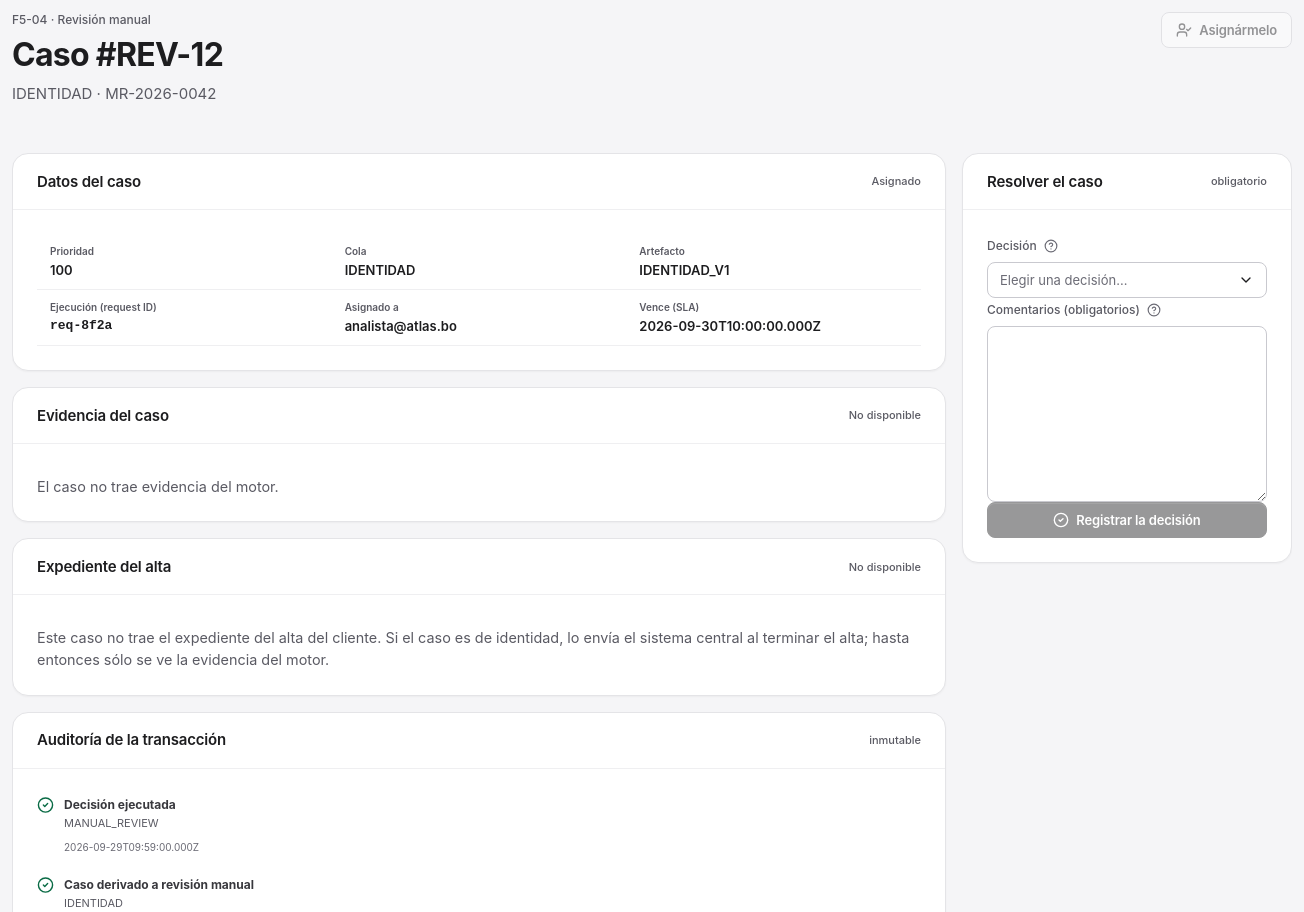
Test: ManualReviewDetailPage › ofrece Aprobar, Rechazar y Cancelar caso, y nada que el motor no acepte
Click the dropdown with test id "select-resolucion". click: (1127, 280)
box: [987,262,1267,298]
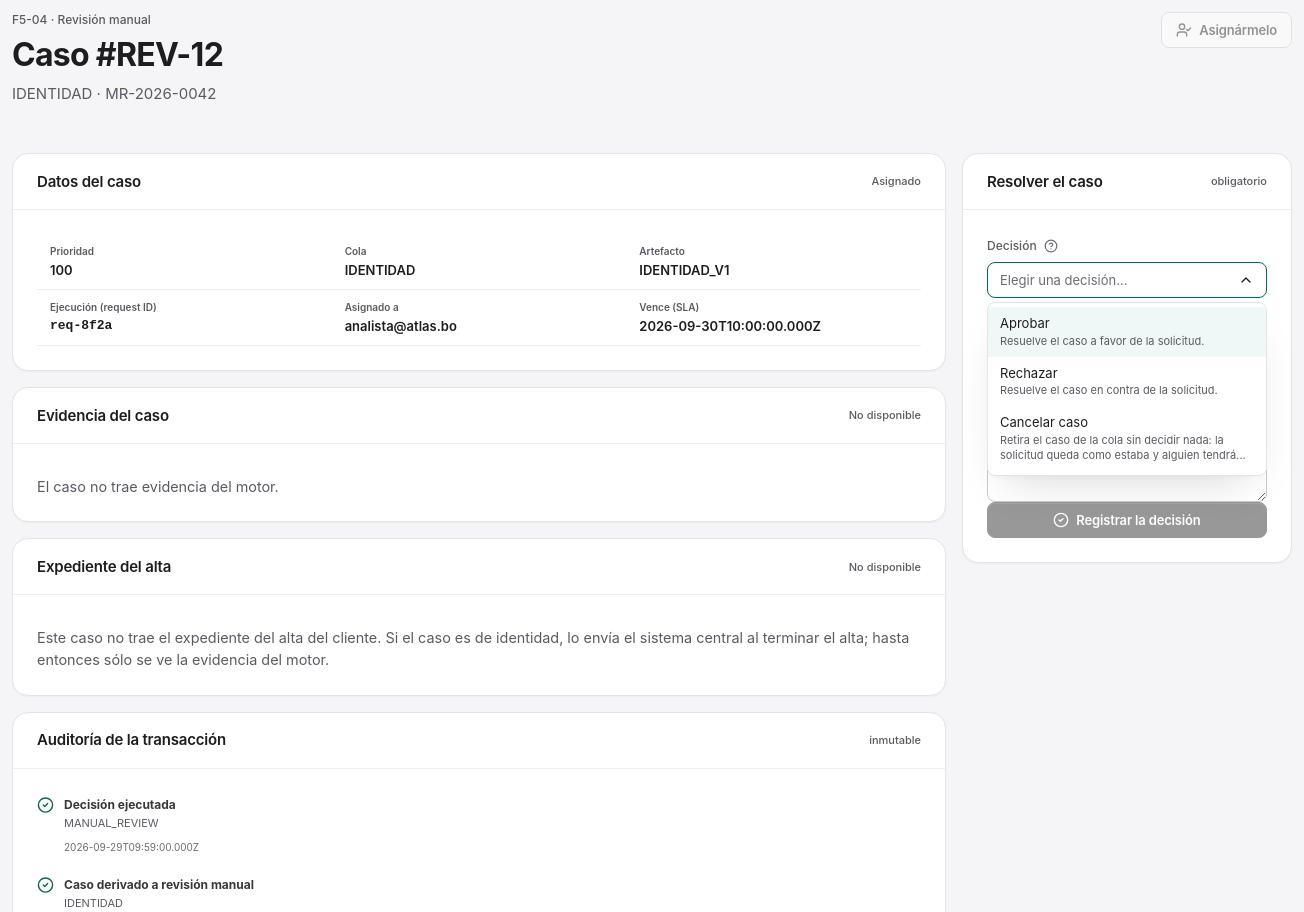
Now the number of options is 3, box [988,307,1266,356]; [1000,365,1218,398]; [1000,414,1236,475]
Now the option "Aprobar Resuelve el caso a favor de la solicitud." is shown, box [988,307,1266,356]
Now the option "Rechazar Resuelve el caso en contra de la solicitud." is shown, box [1000,365,1218,398]
